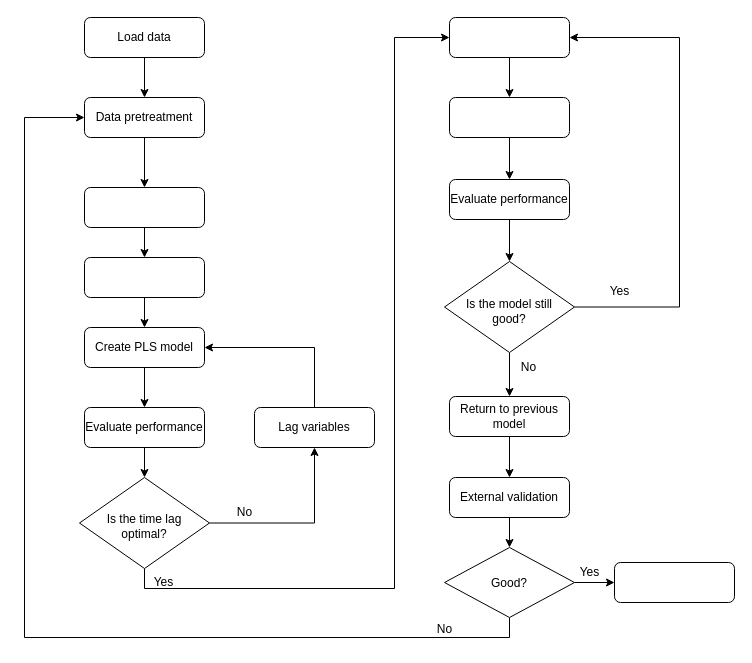
The diagram is 752 pixels wide and 663 high, and some of its shapes have lost their labels. Each missing label, with the centre of its shape:
"Analyze feature importance" belongs at [509,37].
"Center and scale" belongs at [144,277].
"Data split" belongs at [144,207].
"Remove unnecessary features" belongs at [509,117].
"Yay" belongs at [674,582].
